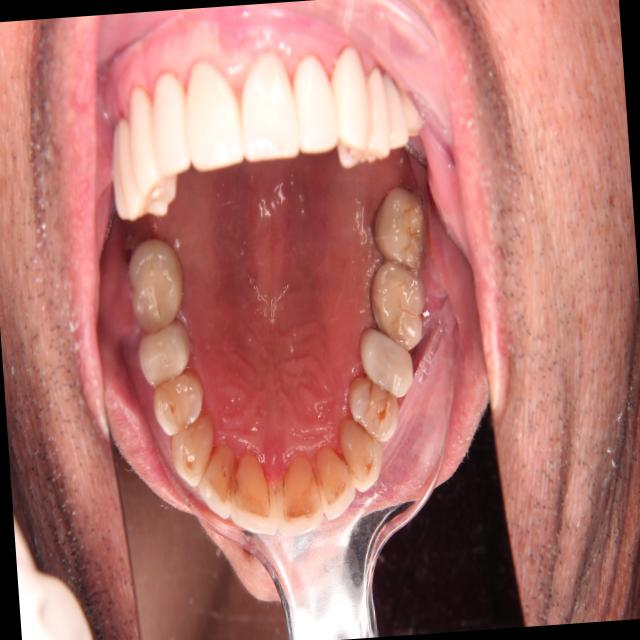tooth: (352, 251, 435, 357), (120, 229, 195, 336), (220, 439, 281, 547), (366, 181, 435, 275), (131, 310, 204, 396), (327, 403, 391, 501), (353, 313, 420, 402), (342, 364, 404, 450), (190, 433, 245, 524), (277, 446, 330, 540), (164, 408, 220, 493), (146, 366, 212, 438), (309, 440, 362, 527)
